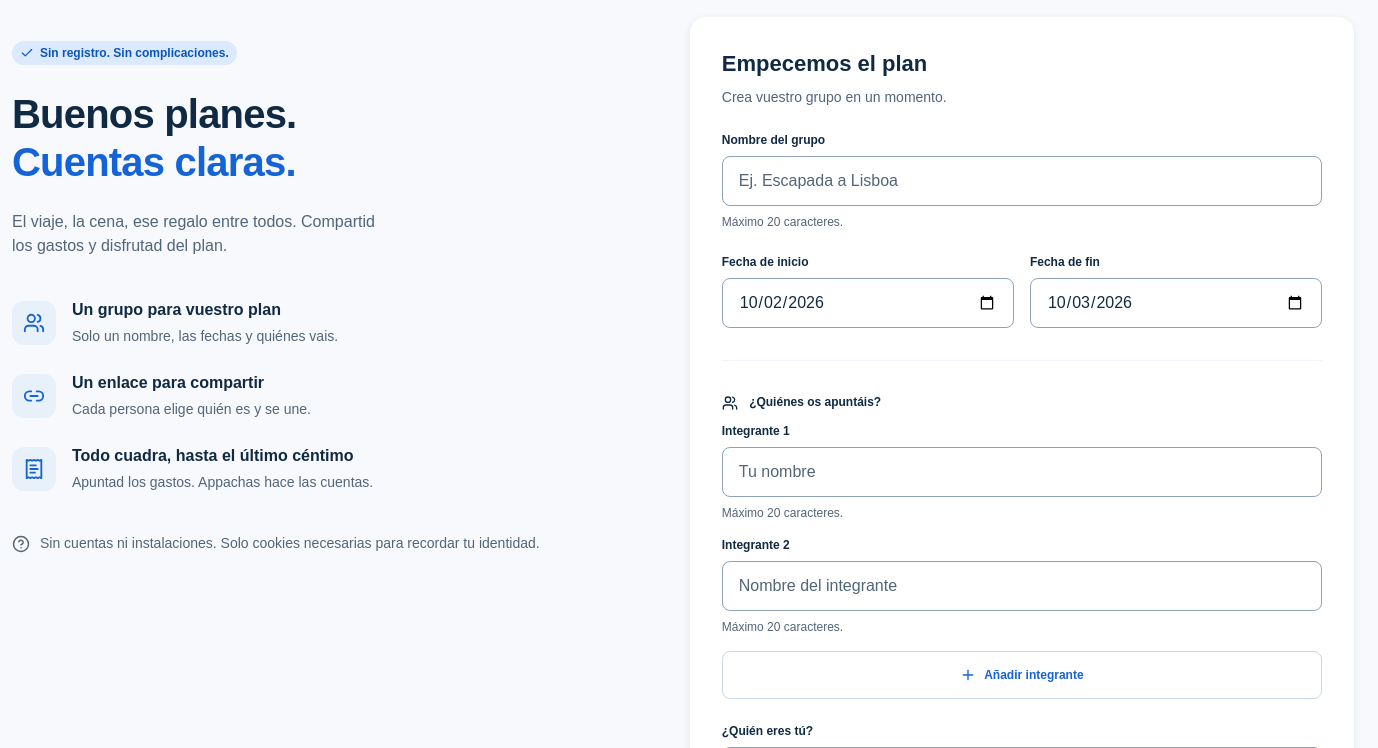
group creation › keeps the form and re-enables saving after a network failure
Type "Viaje a Cádiz" into the field labelled "Nombre del grupo" at (1022, 181), box [722, 156, 1322, 206]
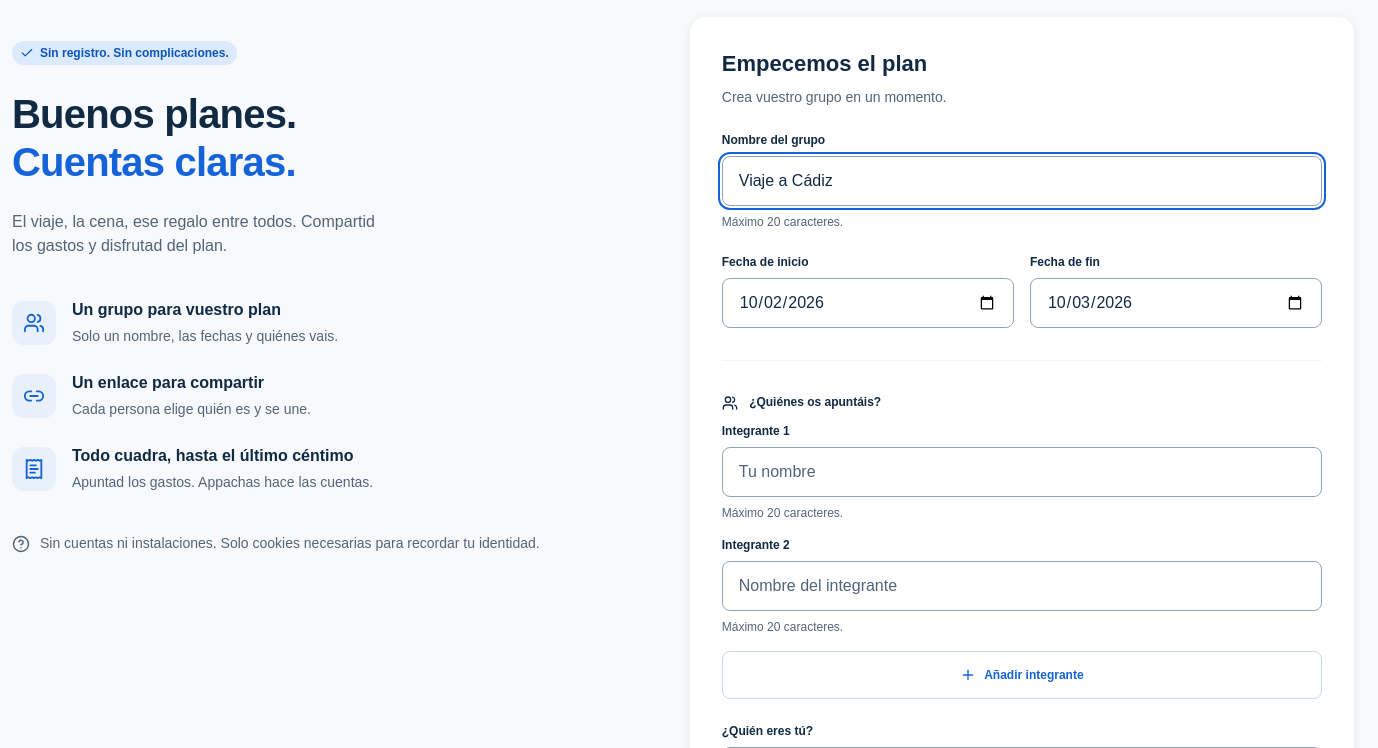
Type "Ana" into the field labelled "Integrante 1" at (1022, 472), box [722, 447, 1322, 497]
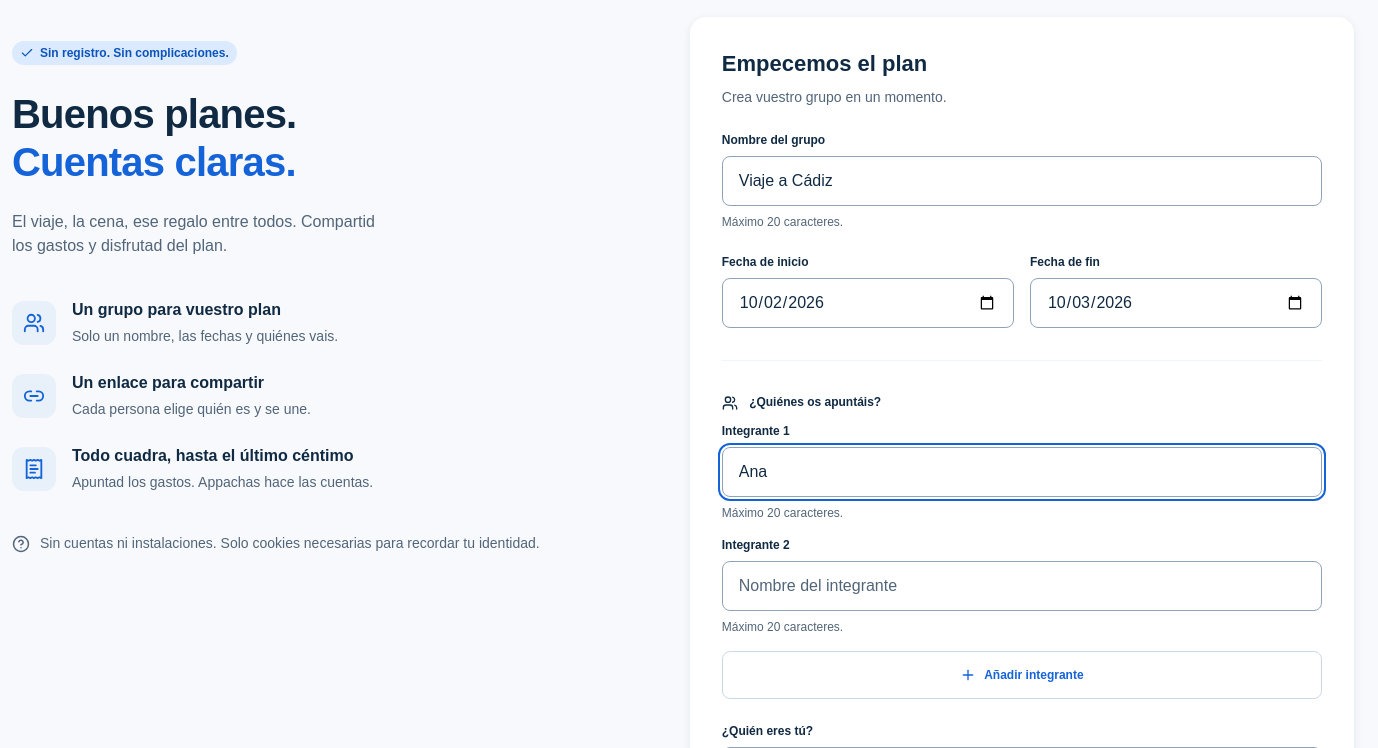
Type "Bruno" into the field labelled "Integrante 2" at (1022, 586), box [722, 561, 1322, 611]
(page scrolled)
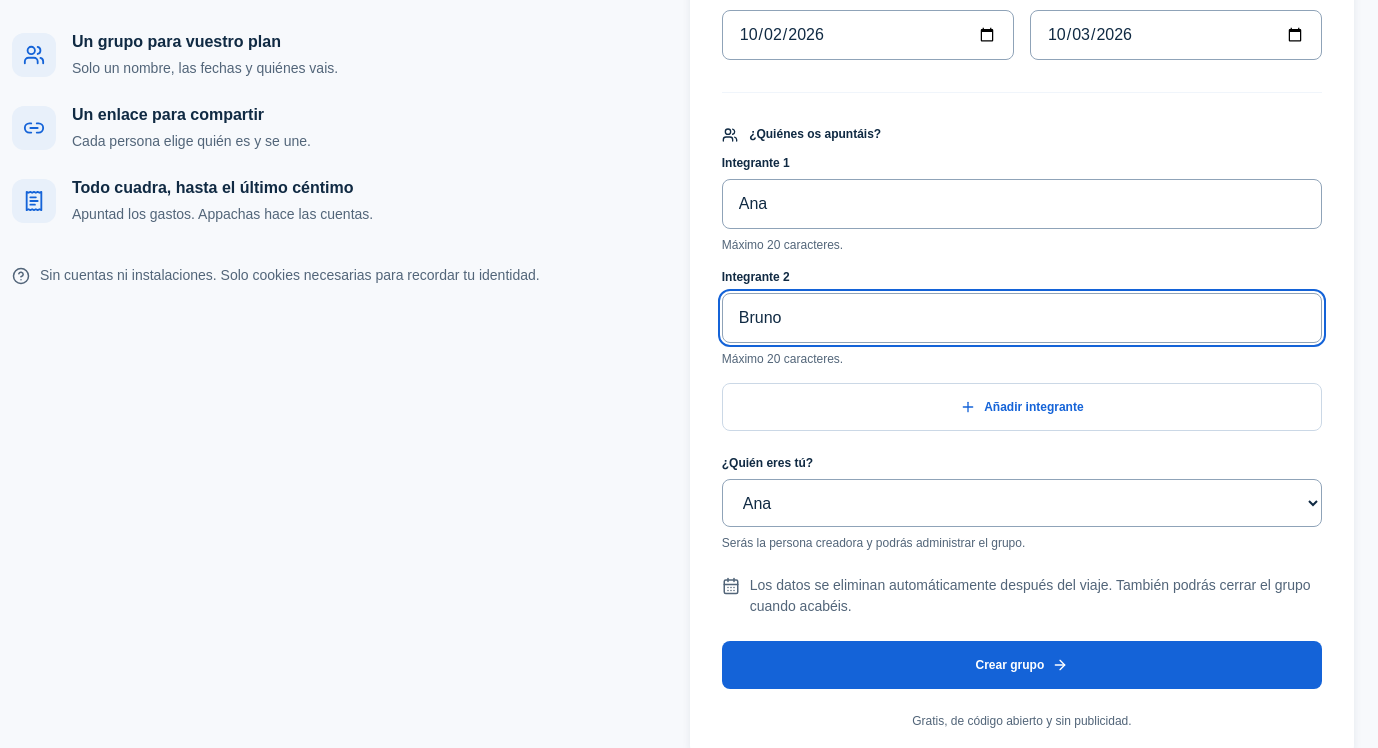
// Act / When
Click the button "Crear grupo" at (1022, 665), box [722, 641, 1322, 689]
(page scrolled)
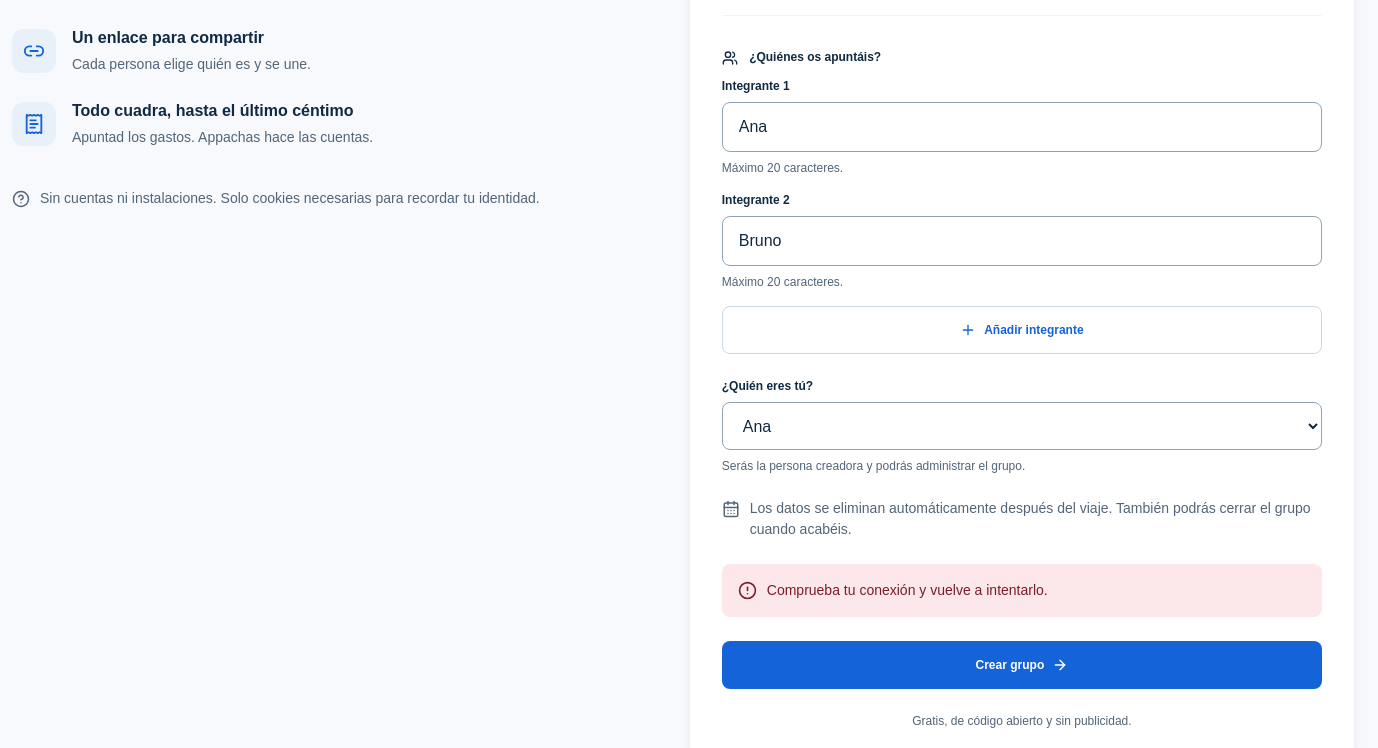
expect the message shows "Comprueba tu conexión": met, box [767, 582, 1048, 598]
